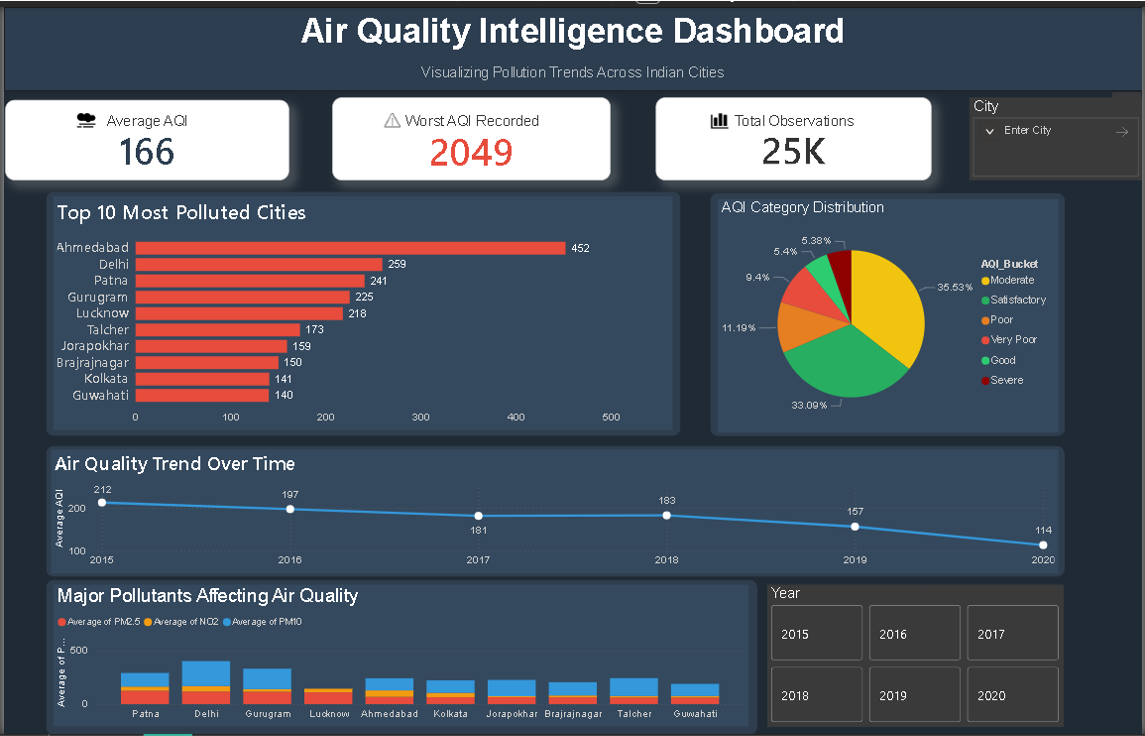

The dashboard page shown, as its layout file describes it:
{"tool":"powerbi","page":{"name":"Page 1","canvas":[1440,920],"ordinal":0},"visuals":[{"type":"group","id":"g1","title":"Group 1","box":[52.7,555.2,1288.7,165.9],"z":0,"group":"g4"},{"type":"card","title":"Average AQI","fields":{"Values":["city_day.Average AQI"]},"box":[0.9,117.5,358.9,101.2],"z":1000},{"type":"shape","box":[893.3,235.7,448.9,307.7],"z":1000,"group":"g3"},{"type":"card","title":"Worst AQI Recorded","fields":{"Values":["city_day.Max AQI"]},"box":[416.1,113.7,352,105],"z":2000},{"type":"card","title":"Total Observations","fields":{"Values":["city_day.Total Records"]},"box":[825.2,113.7,348.9,105],"z":3000},{"type":"pieChart","title":"AQI Category Distribution","fields":{"Y":["CountNonNull(city_day.AQI_Bucket)"],"Category":["city_day.AQI_Bucket"]},"box":[902.2,243.4,431.1,295.2],"z":3000,"group":"g3"},{"type":"textbox","box":[0,0,1440.2,105.8],"z":4000},{"type":"image","box":[90.4,130.7,26.2,26.2],"z":5000},{"type":"image","box":[477.9,130.7,26.2,26.2],"z":6000},{"type":"image","box":[893.1,130.7,26.2,26.2],"z":7000},{"type":"lineChart","title":"Air Quality Trend Over Time","fields":{"Category":["city_day.Year"],"Y":["city_day.Average AQI"]},"box":[58.2,559.8,1274.5,156.4],"z":8000,"group":"g4"},{"type":"shape","box":[52.7,555.2,1288.7,165.9],"z":8500,"group":"g1"},{"type":"shape","box":[53.3,724.3,899.9,196],"z":8500,"group":"g5"},{"type":"shape","box":[52.7,234.2,802.8,309.1],"z":9000,"group":"g2"},{"type":"advancedSlicerVisual","fields":{"Values":["city_day.Year"]},"box":[966.1,730.4,375.3,179.9],"z":9000},{"type":"clusteredBarChart","title":"Top 10 Most Polluted Cities","fields":{"Category":["city_day.City"],"Y":["city_day.Average AQI"]},"box":[62.7,241.1,782.9,295.4],"z":10000,"group":"g2"},{"type":"columnChart","title":"Major Pollutants Affecting Air Quality","fields":{"Category":["city_day.City"],"Y":["Avg(city_day.PM2.5)","Avg(city_day.NO2)","Avg(city_day.PM10)"]},"box":[63.4,730.5,879.3,179.3],"z":10000,"group":"g5"},{"type":"textSlicer","fields":{"Values":["city_day.City"]},"box":[1222,113.7,219.2,105],"z":11000},{"type":"group","id":"g2","title":"Group 1","box":[52.7,234.2,803.3,310.2],"z":12000},{"type":"group","id":"g3","title":"Group 2","box":[893.3,235.7,448.2,308.6],"z":13000},{"type":"group","id":"g4","title":"Group 3","box":[52.7,555.2,1288.7,165.9],"z":13001},{"type":"group","id":"g5","title":"Group 4","box":[53.3,724.3,899.9,196],"z":13002}]}

Visuals, with their boxes in screenshot pixels (x1, y1, x2, y2), scaled from the page's 1440x920 canvas onto the 1145x736 screenshot:
"Group 1" group: bbox=(42, 444, 1067, 577)
"Average AQI" card: bbox=(1, 94, 286, 175)
shape: bbox=(710, 189, 1067, 435)
"Worst AQI Recorded" card: bbox=(331, 91, 611, 175)
"Total Observations" card: bbox=(656, 91, 934, 175)
"AQI Category Distribution" pieChart: bbox=(717, 195, 1060, 431)
textbox: bbox=(0, 0, 1144, 85)
image: bbox=(72, 105, 93, 126)
image: bbox=(380, 105, 401, 126)
image: bbox=(710, 105, 731, 126)
"Air Quality Trend Over Time" lineChart: bbox=(46, 448, 1060, 573)
shape: bbox=(42, 444, 1067, 577)
shape: bbox=(42, 579, 758, 735)
shape: bbox=(42, 187, 680, 435)
advancedSlicerVisual - city_day.Year: bbox=(768, 584, 1067, 728)
"Top 10 Most Polluted Cities" clusteredBarChart: bbox=(50, 193, 672, 429)
"Major Pollutants Affecting Air Quality" columnChart: bbox=(50, 584, 750, 728)
textSlicer - city_day.City: bbox=(972, 91, 1144, 175)
"Group 1" group: bbox=(42, 187, 681, 436)
"Group 2" group: bbox=(710, 189, 1067, 435)
"Group 3" group: bbox=(42, 444, 1067, 577)
"Group 4" group: bbox=(42, 579, 758, 735)
